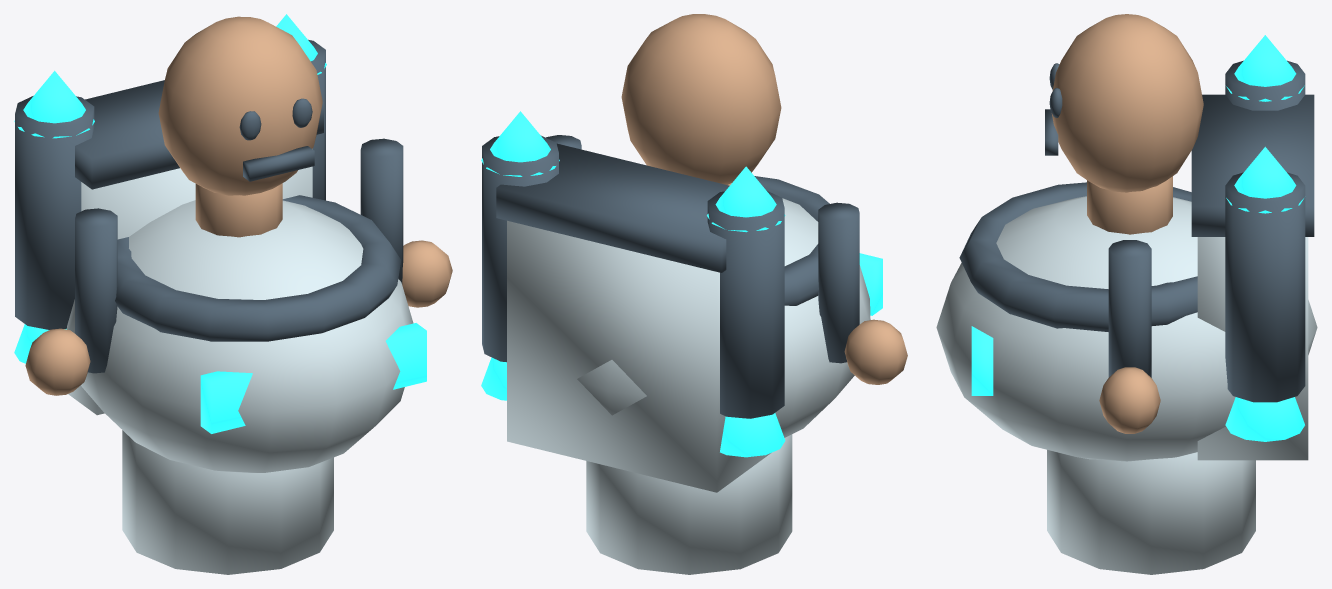
The model's file is porcelain-raider-rocket-v001.glb.
The picture shows the model from 3 angles, left to right: view 1: azimuth 30°, elevation 25°; view 2: azimuth 150°, elevation 25°; view 3: azimuth 270°, elevation 25°; orthographic projection. The views are drawn at different scales.
Visible parts, largest first — view 1: bowl, pedestal, head, rim, rocket-left, tank-lid, arm-left, tank, energy-band, arm-right, neck, hand-left (+6 smaller); view 2: tank, head, pedestal, tank-lid, rocket-left, bowl, rocket-right, arm-left, hand-left, rim, rocket-exhaust-left, rocket-tip-left (+3 smaller); view 3: bowl, pedestal, head, rocket-right, rim, tank-lid, tank, arm-right, neck, hand-right, rocket-exhaust-right, rocket-left (+4 smaller).
Part boxes in pixels (x1,y1,x2,y2): bowl: (67, 200, 413, 472); pedestal: (122, 430, 333, 574); head: (158, 16, 322, 195); rim: (115, 195, 401, 341); rocket-left: (15, 96, 94, 329); tank-lid: (75, 80, 323, 189); arm-left: (75, 208, 117, 373); tank: (68, 166, 312, 415); energy-band: (200, 323, 426, 433); arm-right: (360, 138, 403, 284); neck: (195, 183, 282, 237); hand-left: (25, 328, 90, 395); tank: (507, 220, 770, 492); head: (621, 14, 781, 184); pedestal: (586, 434, 792, 574); tank-lid: (496, 143, 729, 272); rocket-left: (707, 190, 784, 418); bowl: (577, 198, 870, 437); rocket-right: (482, 135, 558, 362); arm-left: (818, 202, 859, 363); hand-left: (844, 319, 907, 384); rim: (754, 176, 829, 305); rocket-exhaust-left: (720, 413, 785, 457); rocket-tip-left: (707, 166, 785, 232); bowl: (936, 196, 1317, 461); pedestal: (1047, 450, 1255, 574); head: (1051, 14, 1203, 192); rocket-right: (1225, 172, 1305, 402); rim: (959, 182, 1197, 331); tank-lid: (1191, 94, 1314, 236); tank: (1197, 237, 1308, 460); arm-right: (1108, 240, 1151, 377); neck: (1087, 176, 1172, 234); hand-right: (1099, 367, 1160, 433); rocket-exhaust-right: (1225, 397, 1304, 441); rocket-left: (1225, 60, 1305, 110).
Size of the model in its own units: 1.55 by 1.83 by 1.24.
